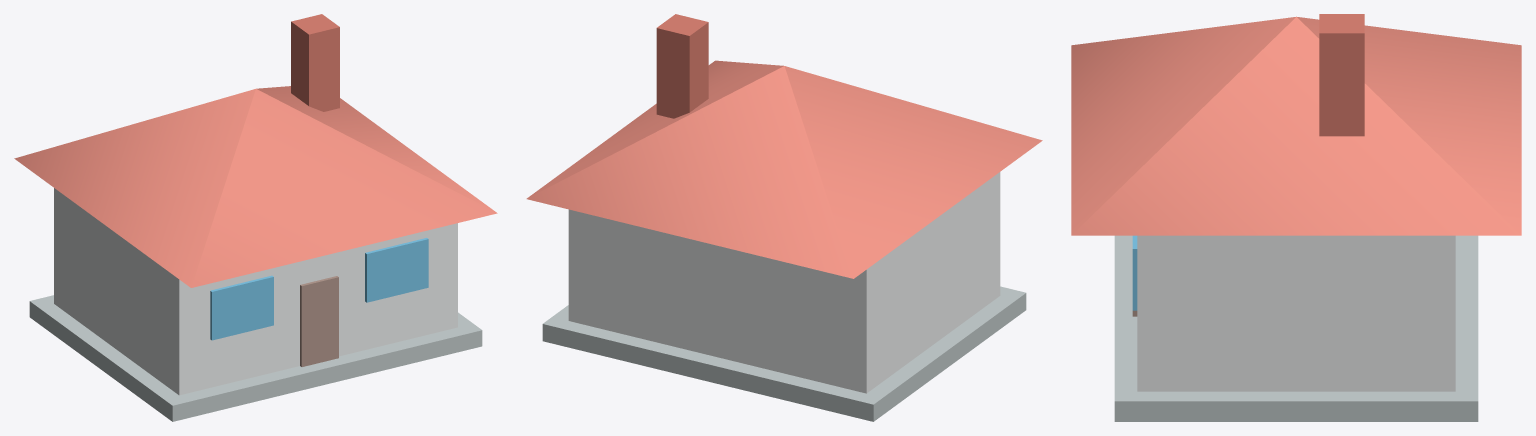
File: modern_house.gltf
3 renders of one model, left to right at view 1: azimuth 30°, elevation 25°; view 2: azimuth 150°, elevation 25°; view 3: azimuth 270°, elevation 25°, orthographic. The views are drawn at different scales.
Bounding box in the file's own units: 100 × 85 × 98.99.
